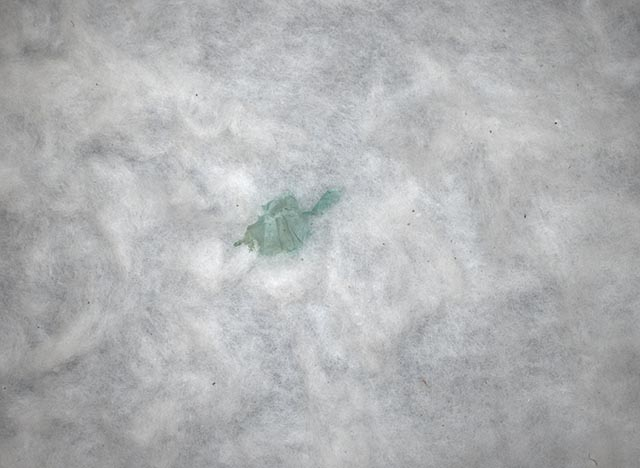plastic film: (233, 189, 343, 259)
